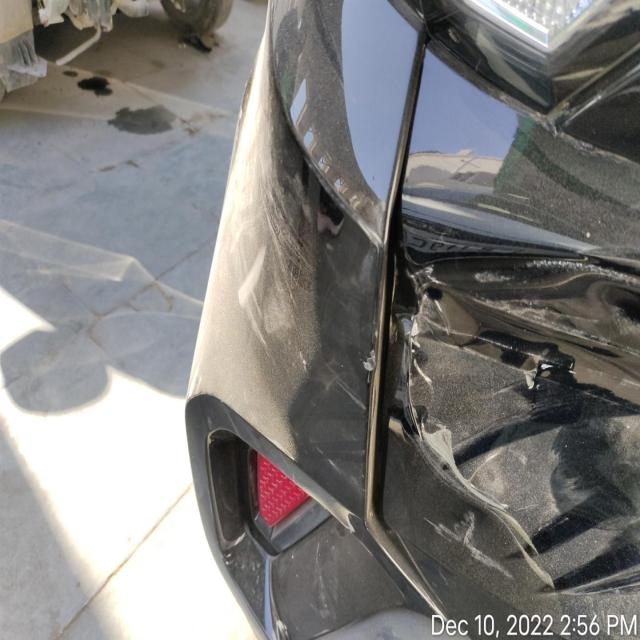damage: (381, 241, 638, 600)
